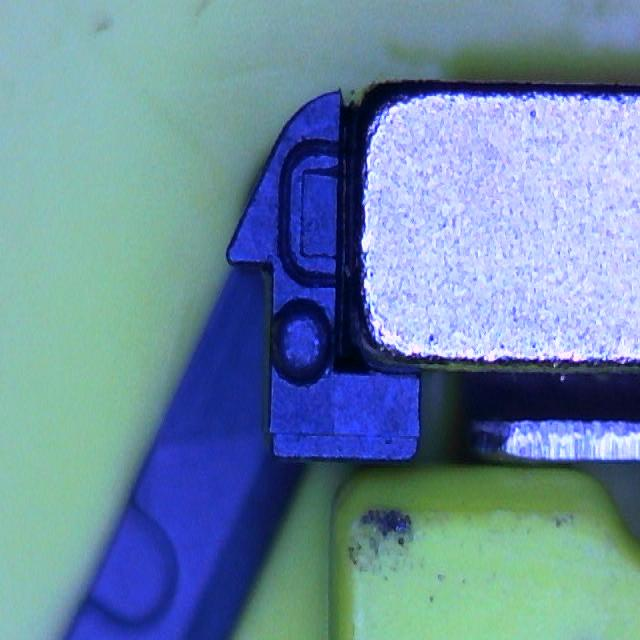lacking: (276, 136, 348, 292)
